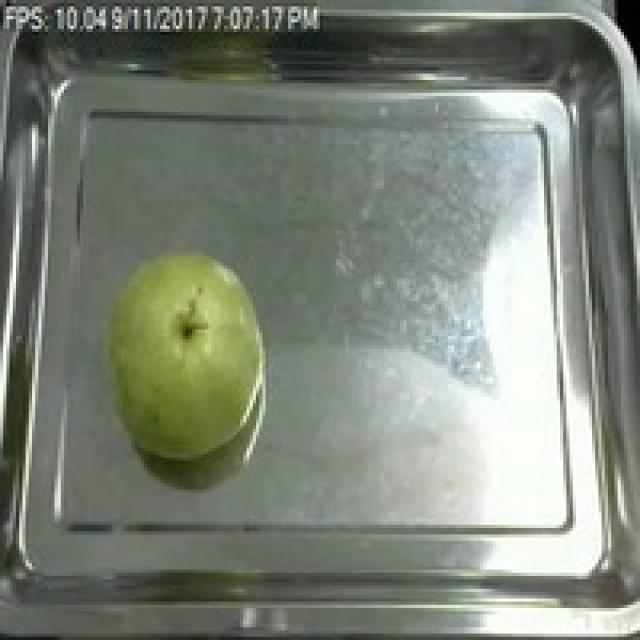Fruit: (80, 240, 278, 467)
